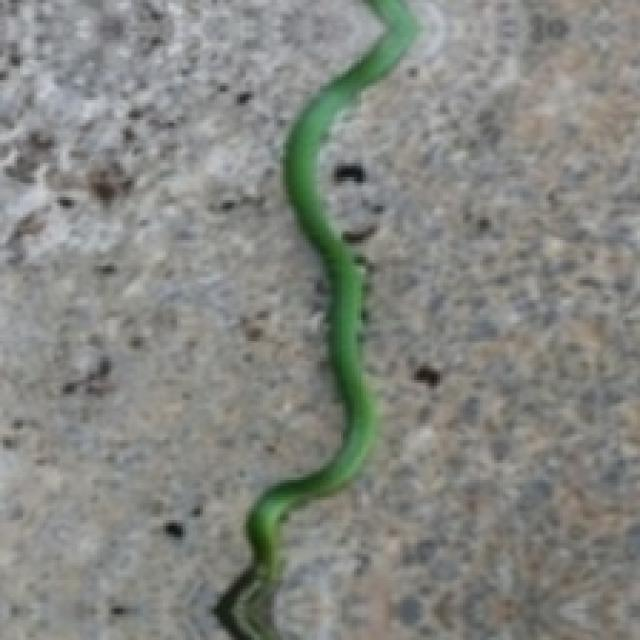red-tailed green ratsnake: (217, 0, 417, 637)
